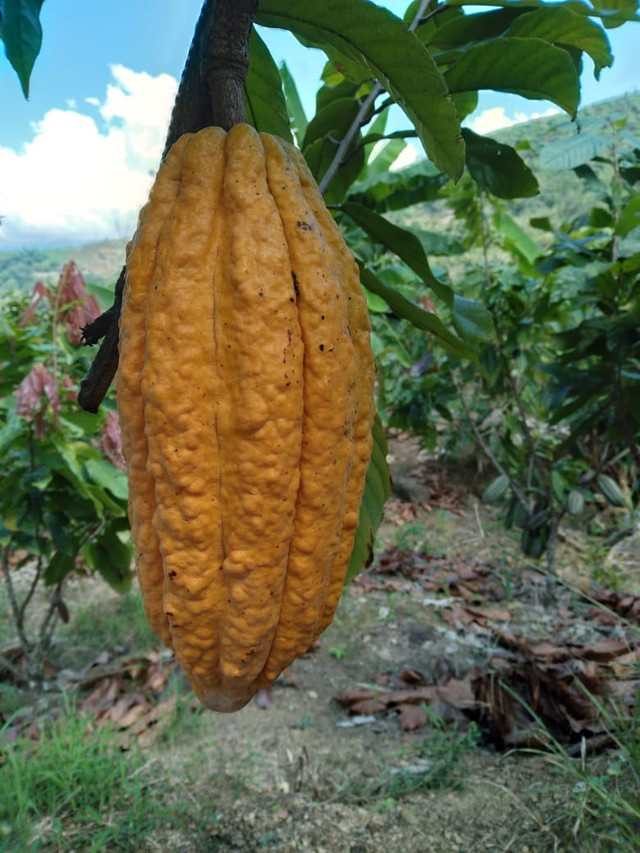Health: (109, 118, 386, 717)
